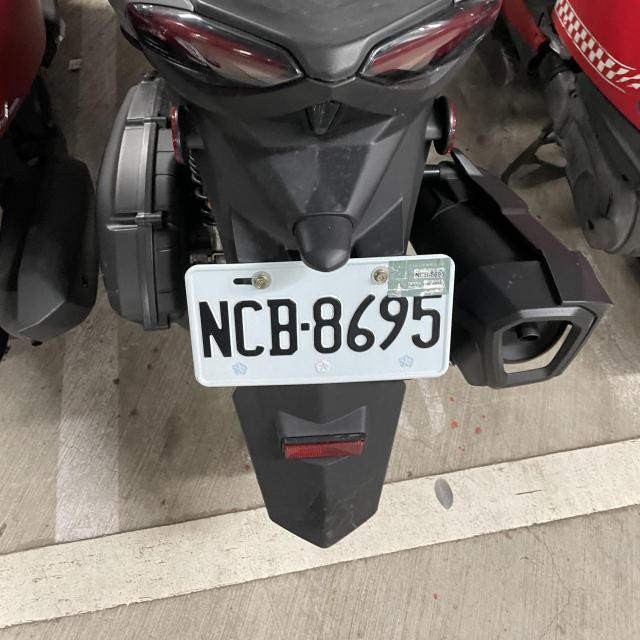W: (183, 252, 455, 390)
